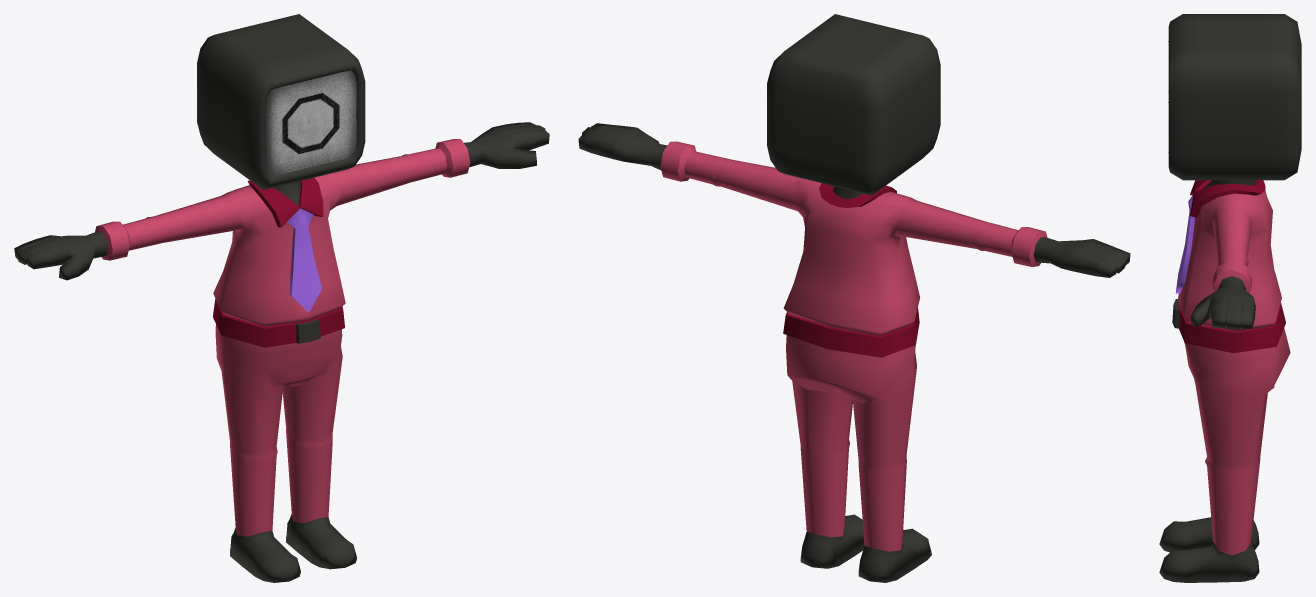
File: TV man squid guard.fbx
3 views of the same model, side by side, from view 1: azimuth 30°, elevation 25°; view 2: azimuth 150°, elevation 25°; view 3: azimuth 270°, elevation 25° (orthographic). The views are drawn at different scales.
Parts seen in each view (by area): view 1: tv_man_guard; view 2: tv_man_guard; view 3: tv_man_guard.
Boxes of the visible parts, bbox=[...] form: tv_man_guard: bbox=[14, 14, 549, 582]; tv_man_guard: bbox=[578, 14, 1130, 582]; tv_man_guard: bbox=[1159, 14, 1301, 582].
Bounding box in the file's own units: 105 × 96.89 × 23.91.
Materials: 1 (1 with a texture image).
